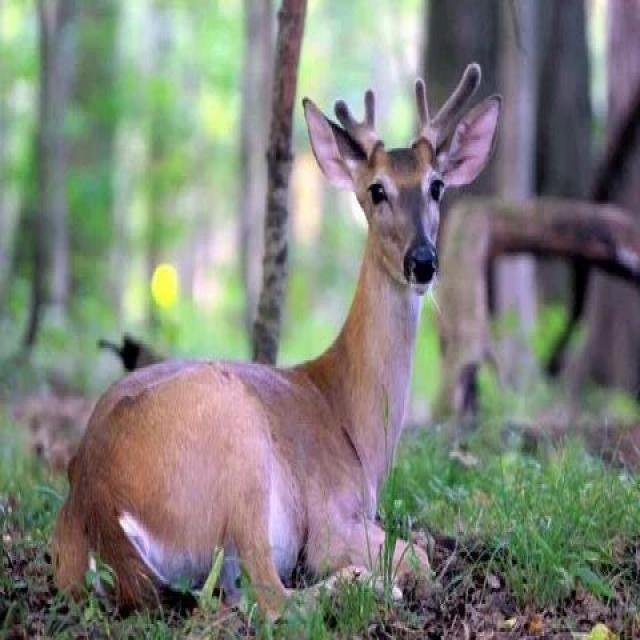deer: (124, 31, 514, 566)
